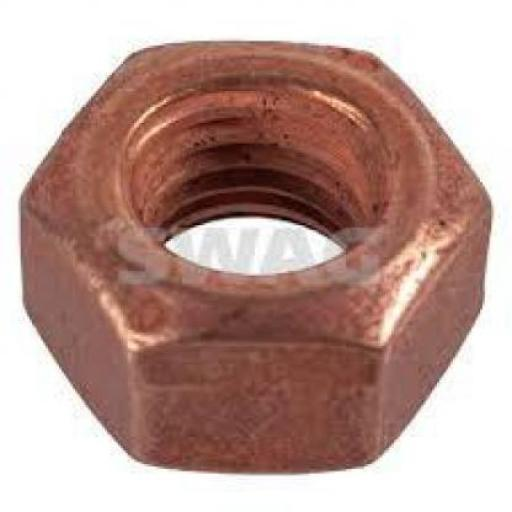Nut: (19, 40, 492, 475)
